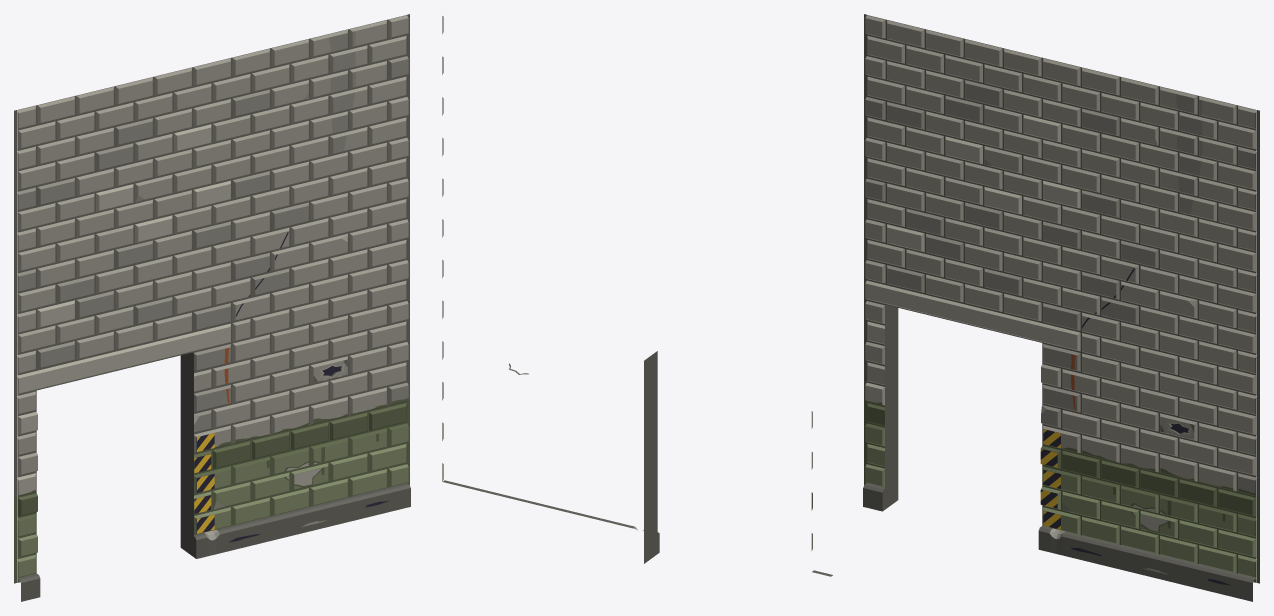
The model's file is wall_panel_doorway.glb.
The picture shows the model from 3 angles, left to right: view 1: azimuth 30°, elevation 25°; view 2: azimuth 150°, elevation 25°; view 3: azimuth 330°, elevation 25°; orthographic projection.
Parts seen in each view (by area): view 1: Wall; view 2: Wall; view 3: Wall.
Part boxes in pixels (x1,y1,x2,y2): Wall: [14, 14, 410, 601]; Wall: [442, 16, 832, 576]; Wall: [863, 14, 1259, 601].
Size of the model in its own units: 5.08 by 6 by 0.3525.
